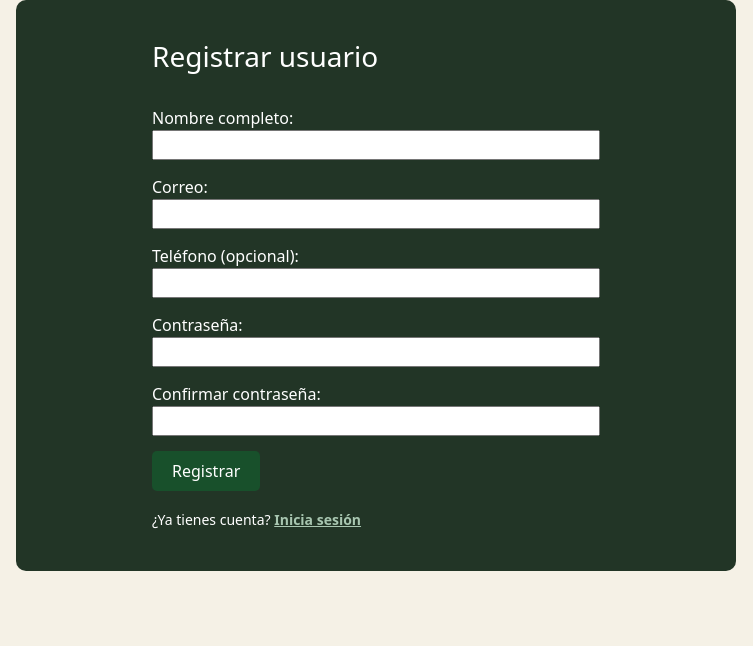
Test: no envía el registro cuando las contraseñas no coinciden
Orden de los campos: nombre, correo, teléfono, contraseña y confirmación
Type "Pedro González" into the field below "Nombre completo:" at {"x": 376, "y": 145}, box [152,130,600,160]
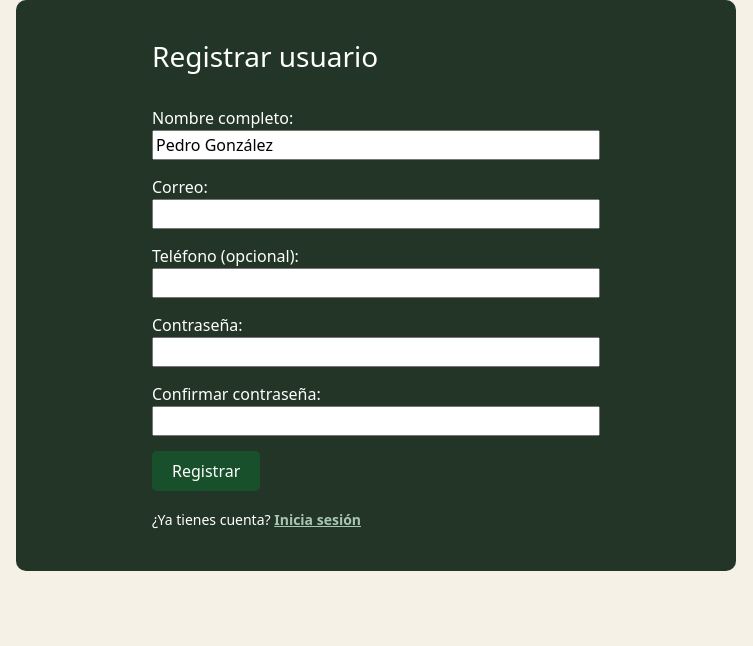
Type "pedro@gmail.com" into the field below "Correo:" at {"x": 376, "y": 214}, box [152,199,600,229]
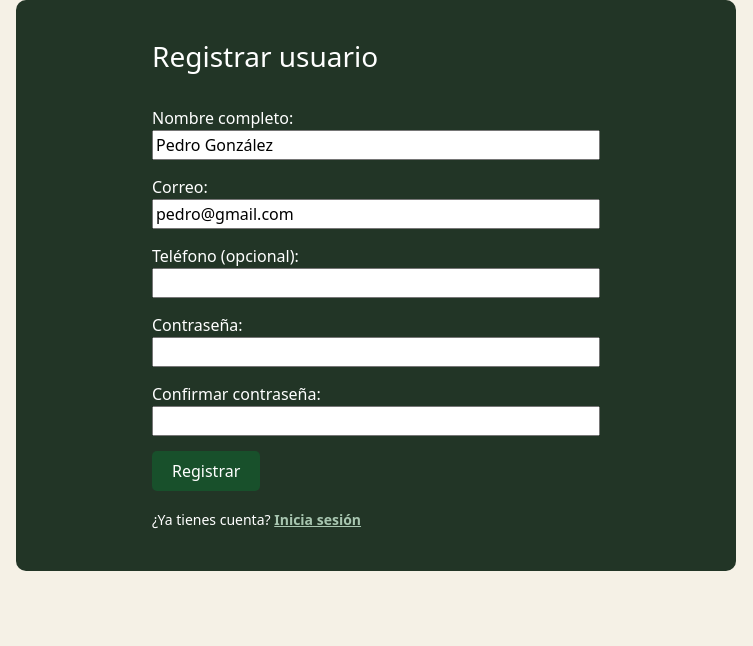
Type "clave123" into the 1st password field at {"x": 376, "y": 352}, box [152,337,600,367]
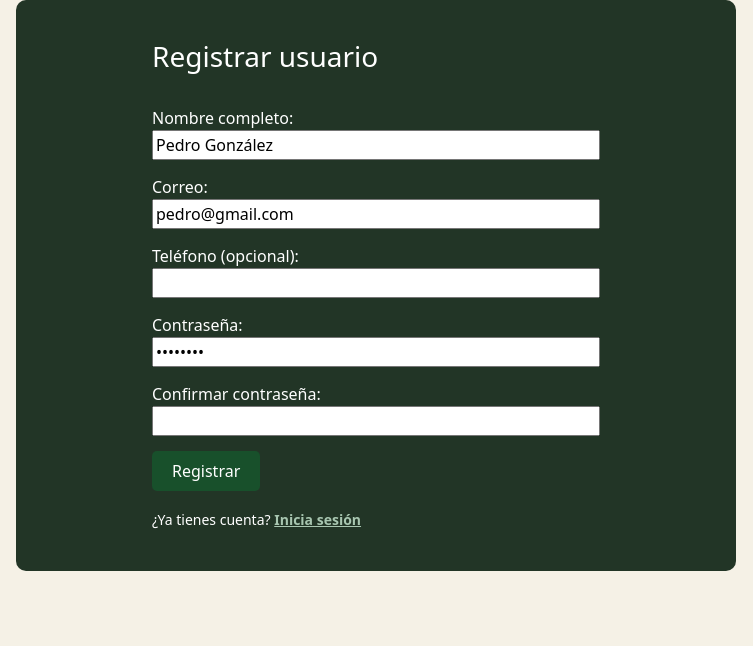
Type "otraClave" into the password field below "Confirmar contraseña:" at {"x": 376, "y": 421}, box [152,406,600,436]
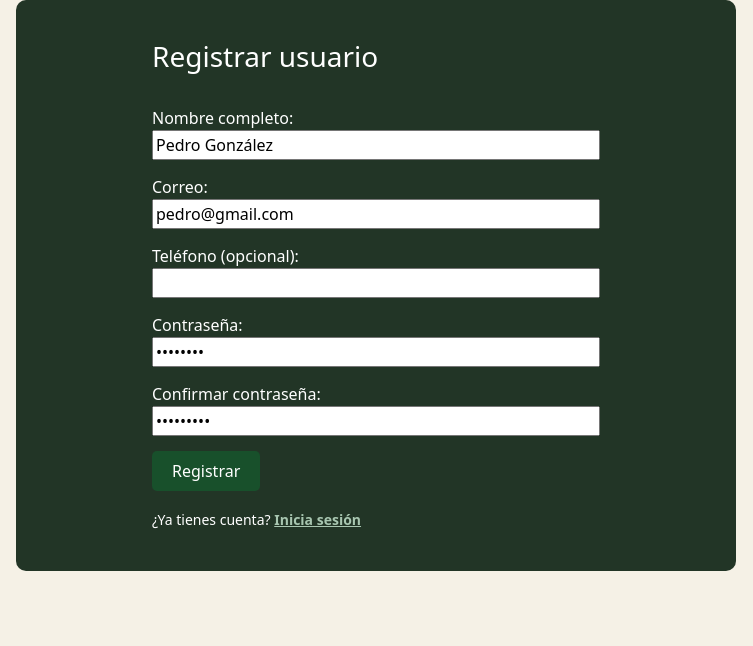
Click the button "Registrar" at {"x": 206, "y": 471}, box [152,451,260,491]
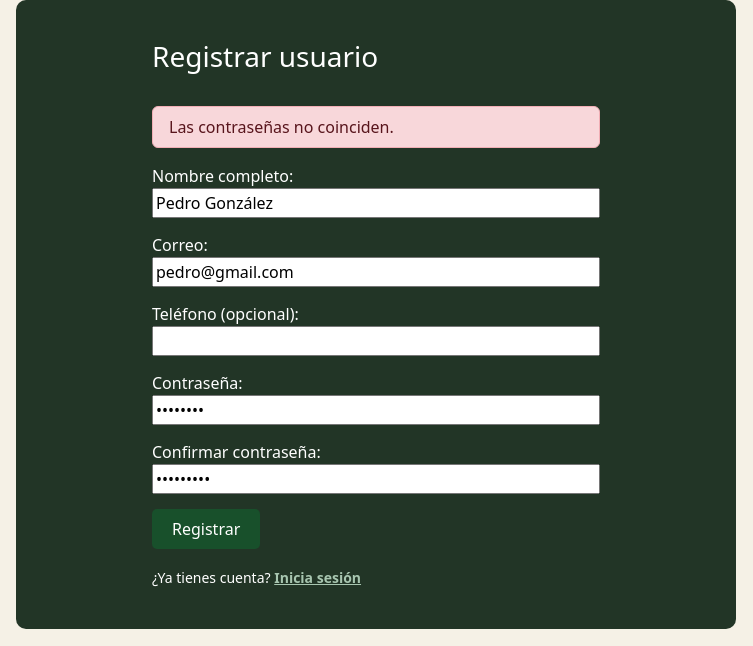
Now the text "Las contraseñas no coinciden." is shown, box [152,106,600,148]
